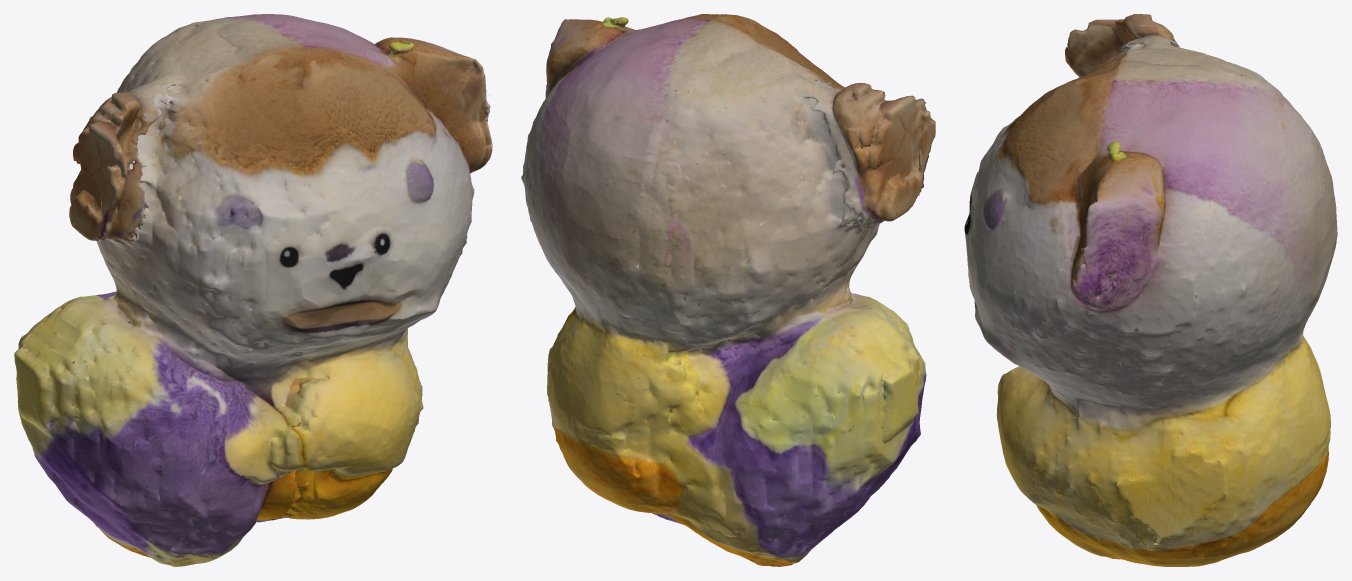
Rendered from Maru_Multiview1_1121014409_texture.fbx.
The picture shows the model from 3 angles, left to right: view 1: azimuth 30°, elevation 25°; view 2: azimuth 150°, elevation 25°; view 3: azimuth 270°, elevation 25°; orthographic projection. The views are drawn at different scales.
Visible parts, largest first — view 1: Mesh1.0; view 2: Mesh1.0; view 3: Mesh1.0.
Part boxes in pixels (x1=…): Mesh1.0: x1=14, y1=14, x2=492, y2=566; Mesh1.0: x1=521, y1=14, x2=935, y2=566; Mesh1.0: x1=964, y1=14, x2=1337, y2=566.
Size of the model in its own units: 138 by 163 by 110.
Materials: 1 (1 with a texture image).
